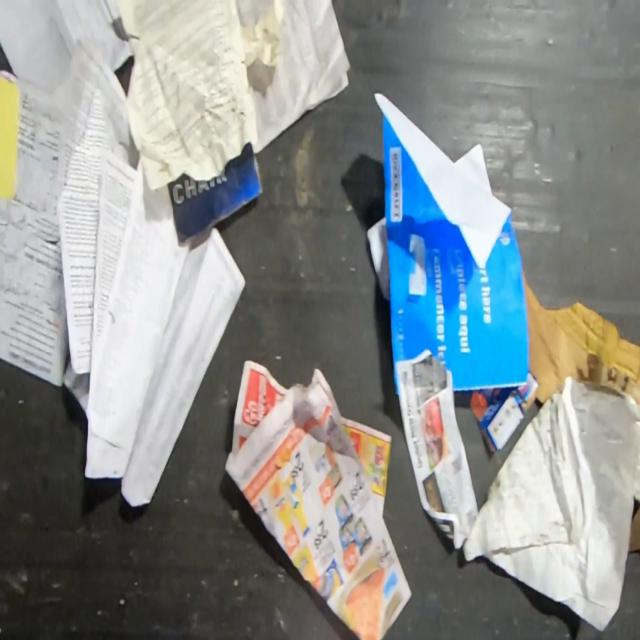cardboard: (521, 268, 640, 406), (167, 142, 264, 245), (462, 371, 539, 454), (628, 502, 639, 553)
